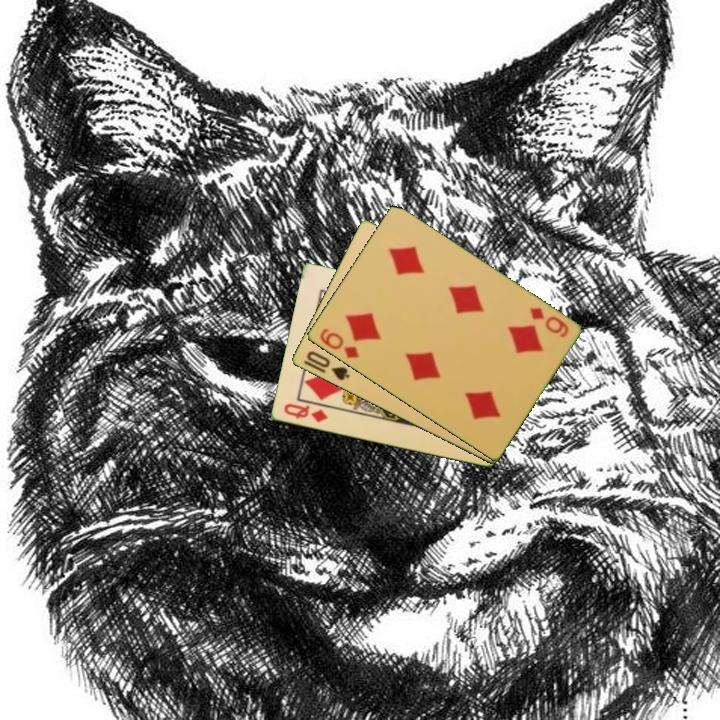10s: (302, 347, 352, 384)
6d: (316, 325, 362, 361), (525, 304, 571, 340)
Qd: (280, 400, 331, 426)
